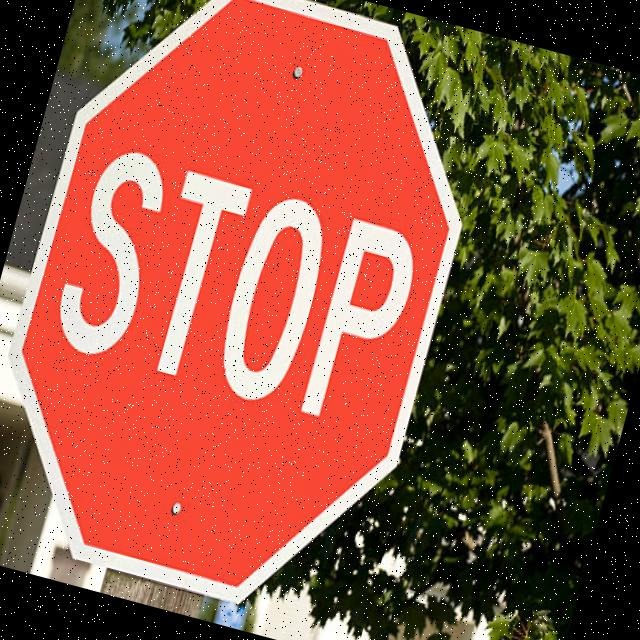stop: (0, 0, 514, 634)
